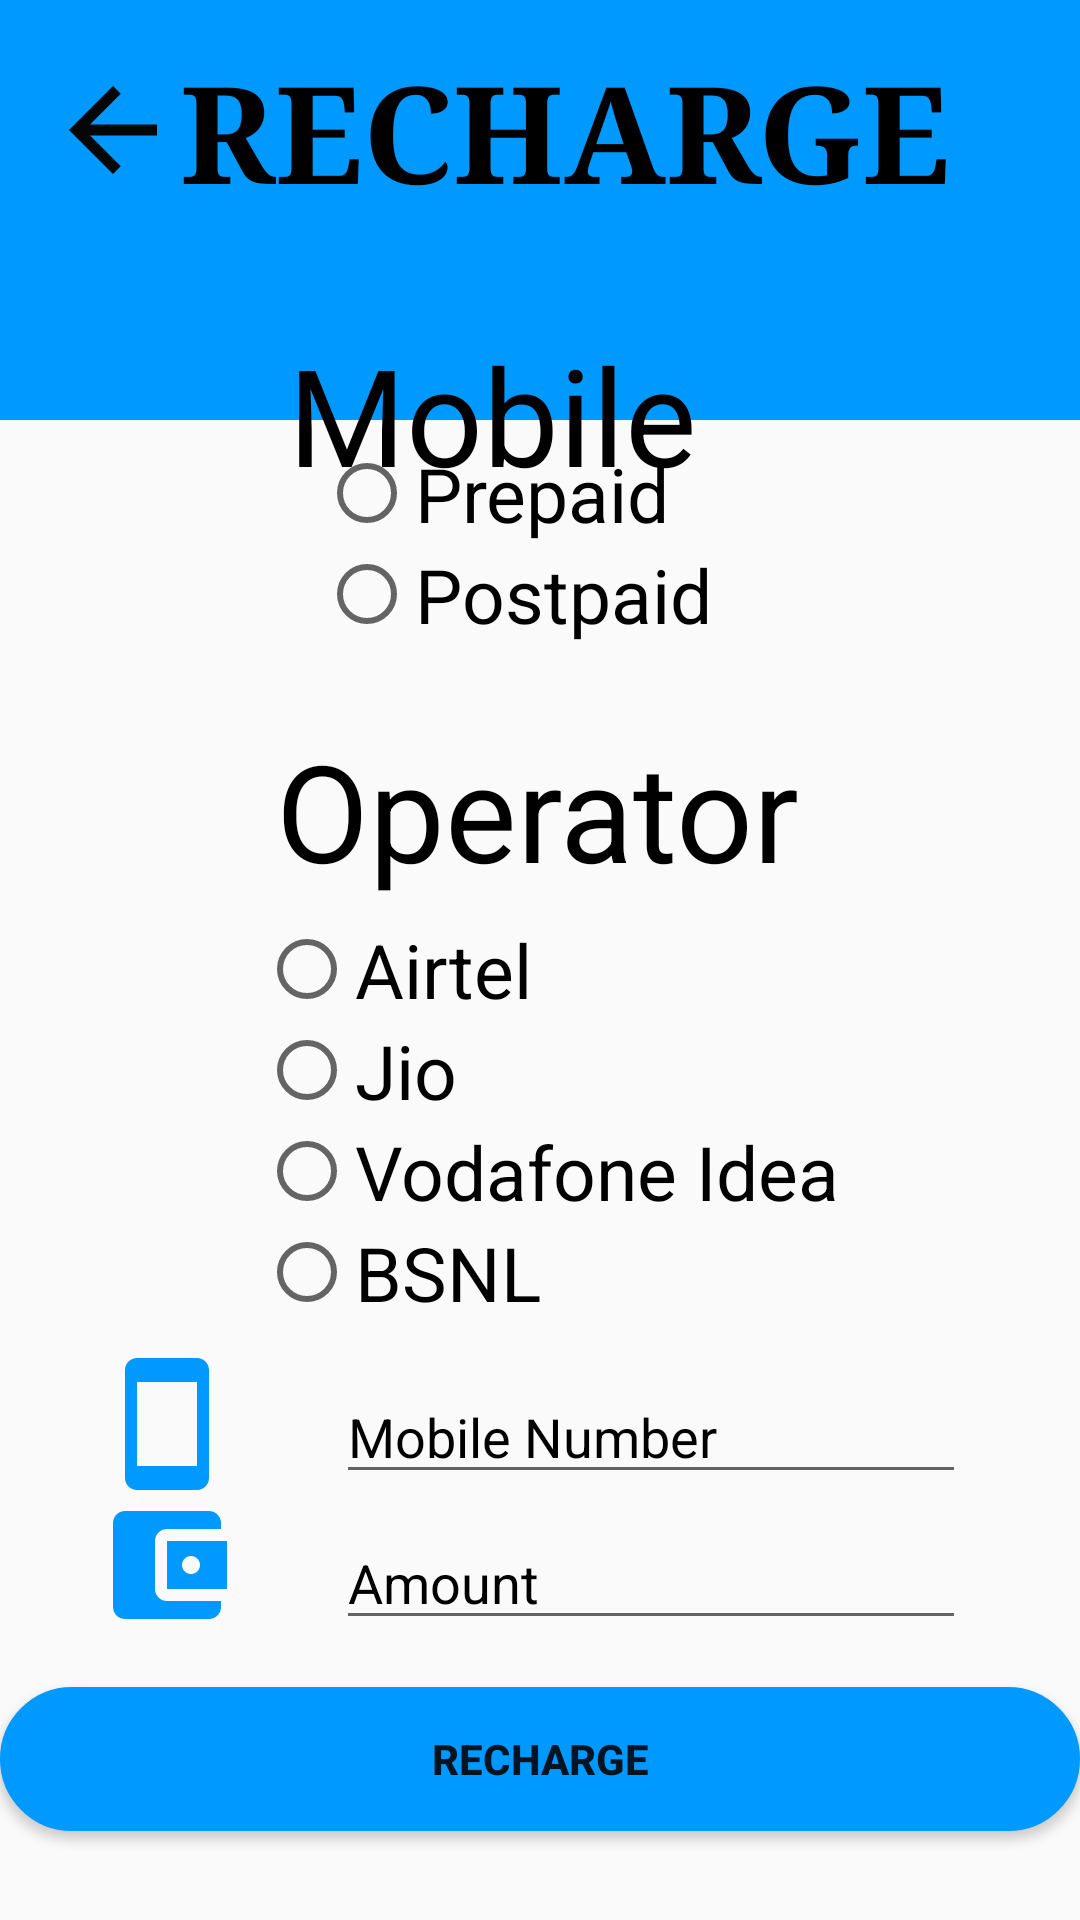

Icons on this 1080px x 1920px Android screen, each with the point to tap as (x=x, y=y):
smartphone: (x=167, y=1424)
wallet: (x=170, y=1565)
